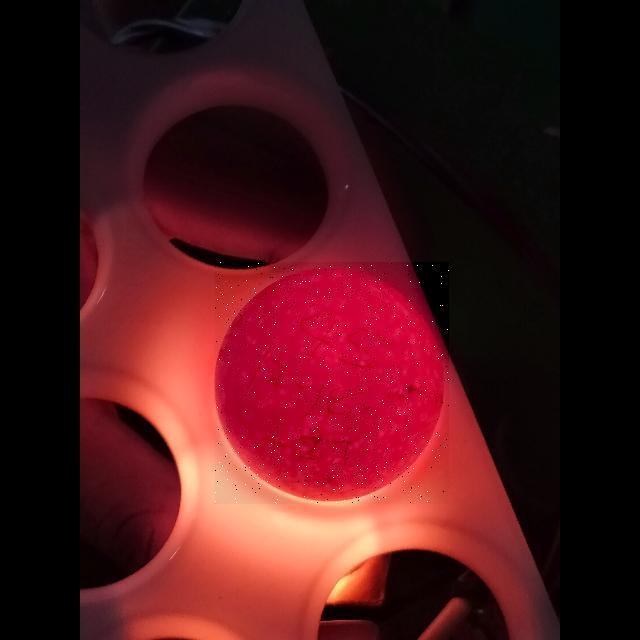Infertile: (215, 262, 449, 504)
